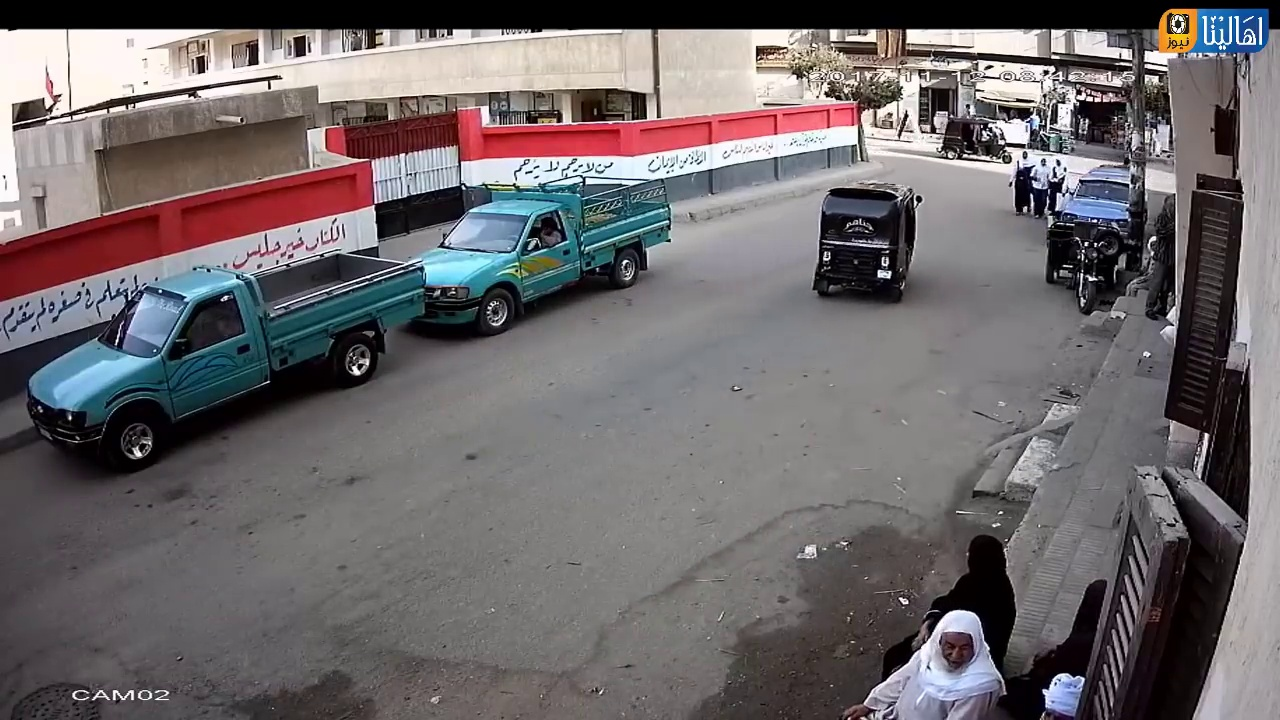face: (941, 636, 970, 672), (1040, 158, 1047, 167), (1021, 152, 1028, 160)
